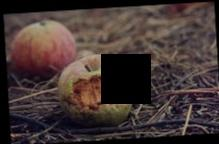rotten apple: (57, 52, 140, 127)
